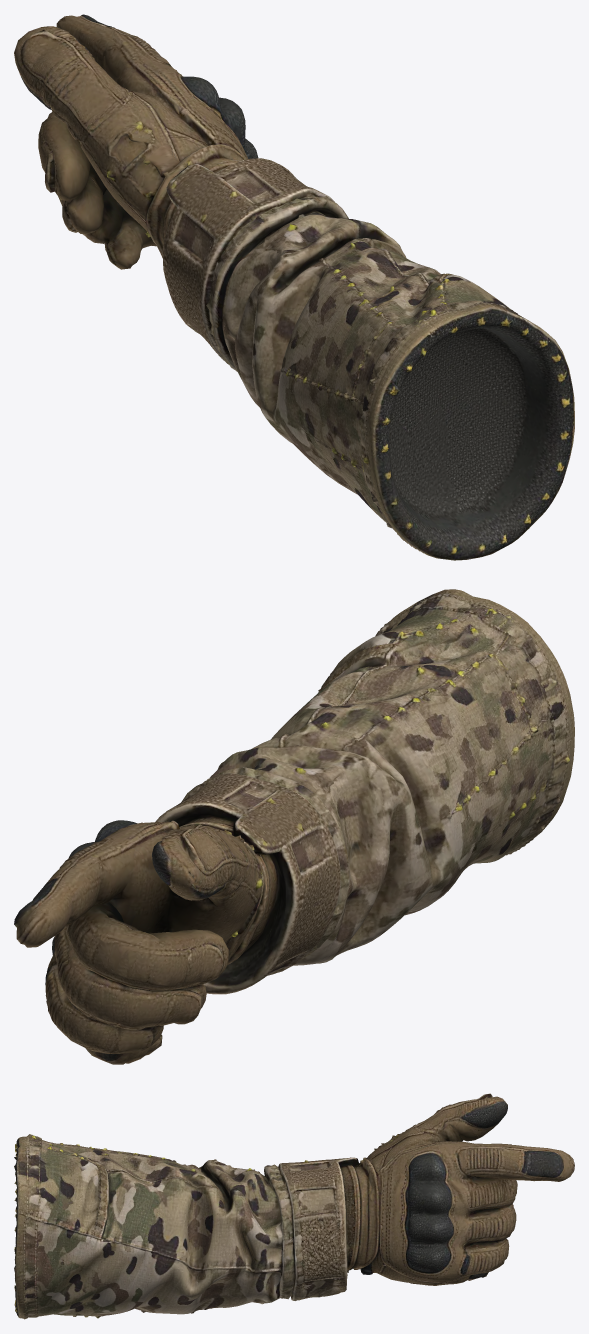
File: arm_r.glb
3 views of the same model, one above another, from view 1: azimuth 30°, elevation 25°; view 2: azimuth 150°, elevation 25°; view 3: azimuth 270°, elevation 25° (orthographic). The views are drawn at different scales.
Parts seen in each view (by area): view 1: tripo_node_de83052f-87ce-4183-a984-d1211d2c34e2; view 2: tripo_node_de83052f-87ce-4183-a984-d1211d2c34e2; view 3: tripo_node_de83052f-87ce-4183-a984-d1211d2c34e2.
Part boxes in pixels (x1,y1,x2,y2): tripo_node_de83052f-87ce-4183-a984-d1211d2c34e2: (14, 14, 574, 560); tripo_node_de83052f-87ce-4183-a984-d1211d2c34e2: (14, 589, 574, 1064); tripo_node_de83052f-87ce-4183-a984-d1211d2c34e2: (14, 1093, 574, 1319).
Bounding box in the file's own units: 0.2754 × 0.3676 × 0.9774.
1 material, 1 textured.
